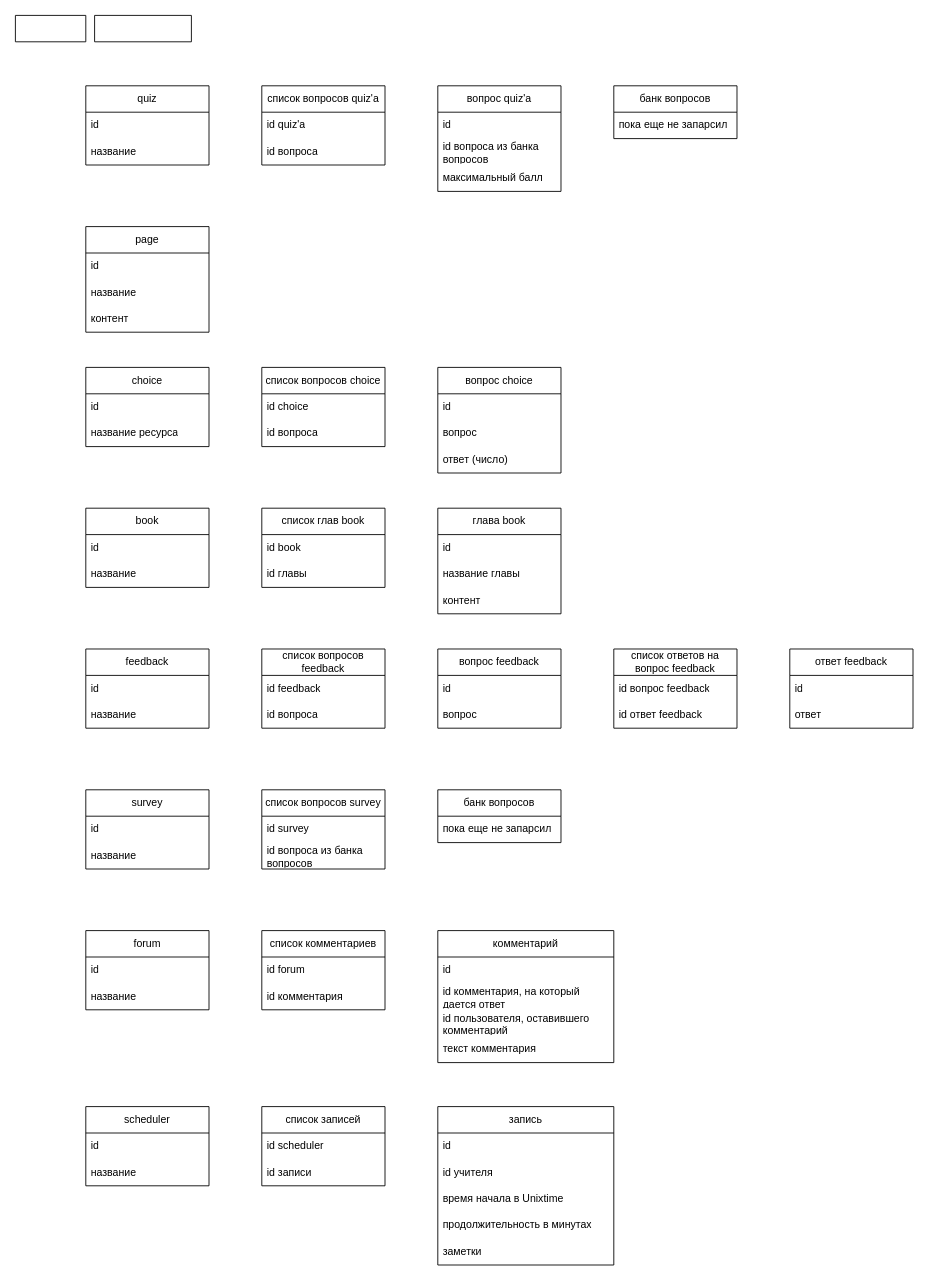
This 928x1280 diagram has some shape labels left out. Here are the shapes that lost their labels. From the top down, the centre of each, then its label:
At (50,28): "Ресурс".
At (142,28): "Тип ресурса".
